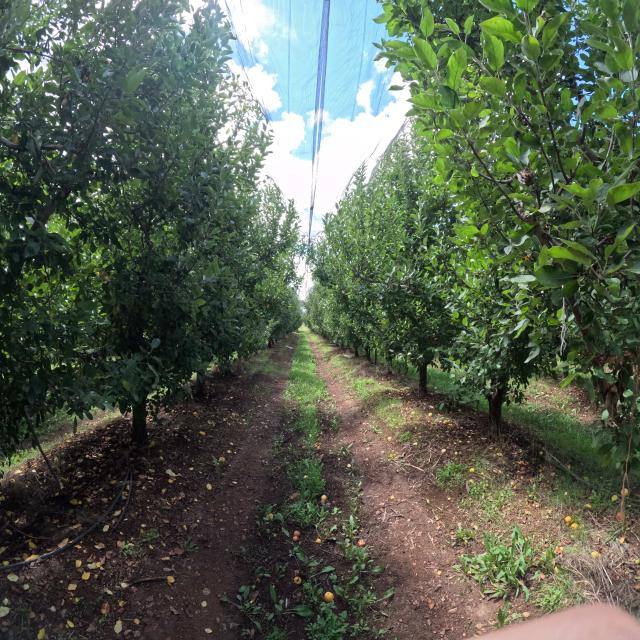-FireBlight-: (599, 379, 625, 432), (520, 166, 535, 187)
